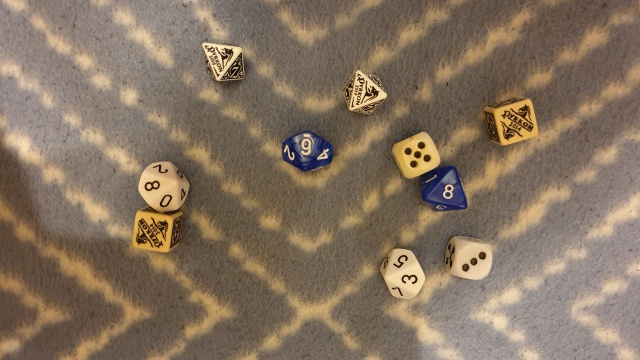d10-3: (375, 236, 439, 300)
d10-6: (273, 126, 337, 190)
d10-8: (131, 153, 193, 215), (421, 160, 476, 215)
d6-3: (441, 231, 496, 286)
d6-8: (387, 126, 443, 182)
d6p-1: (126, 207, 187, 268), (481, 90, 541, 150)
d8p-1: (337, 63, 394, 123), (198, 36, 249, 88)
